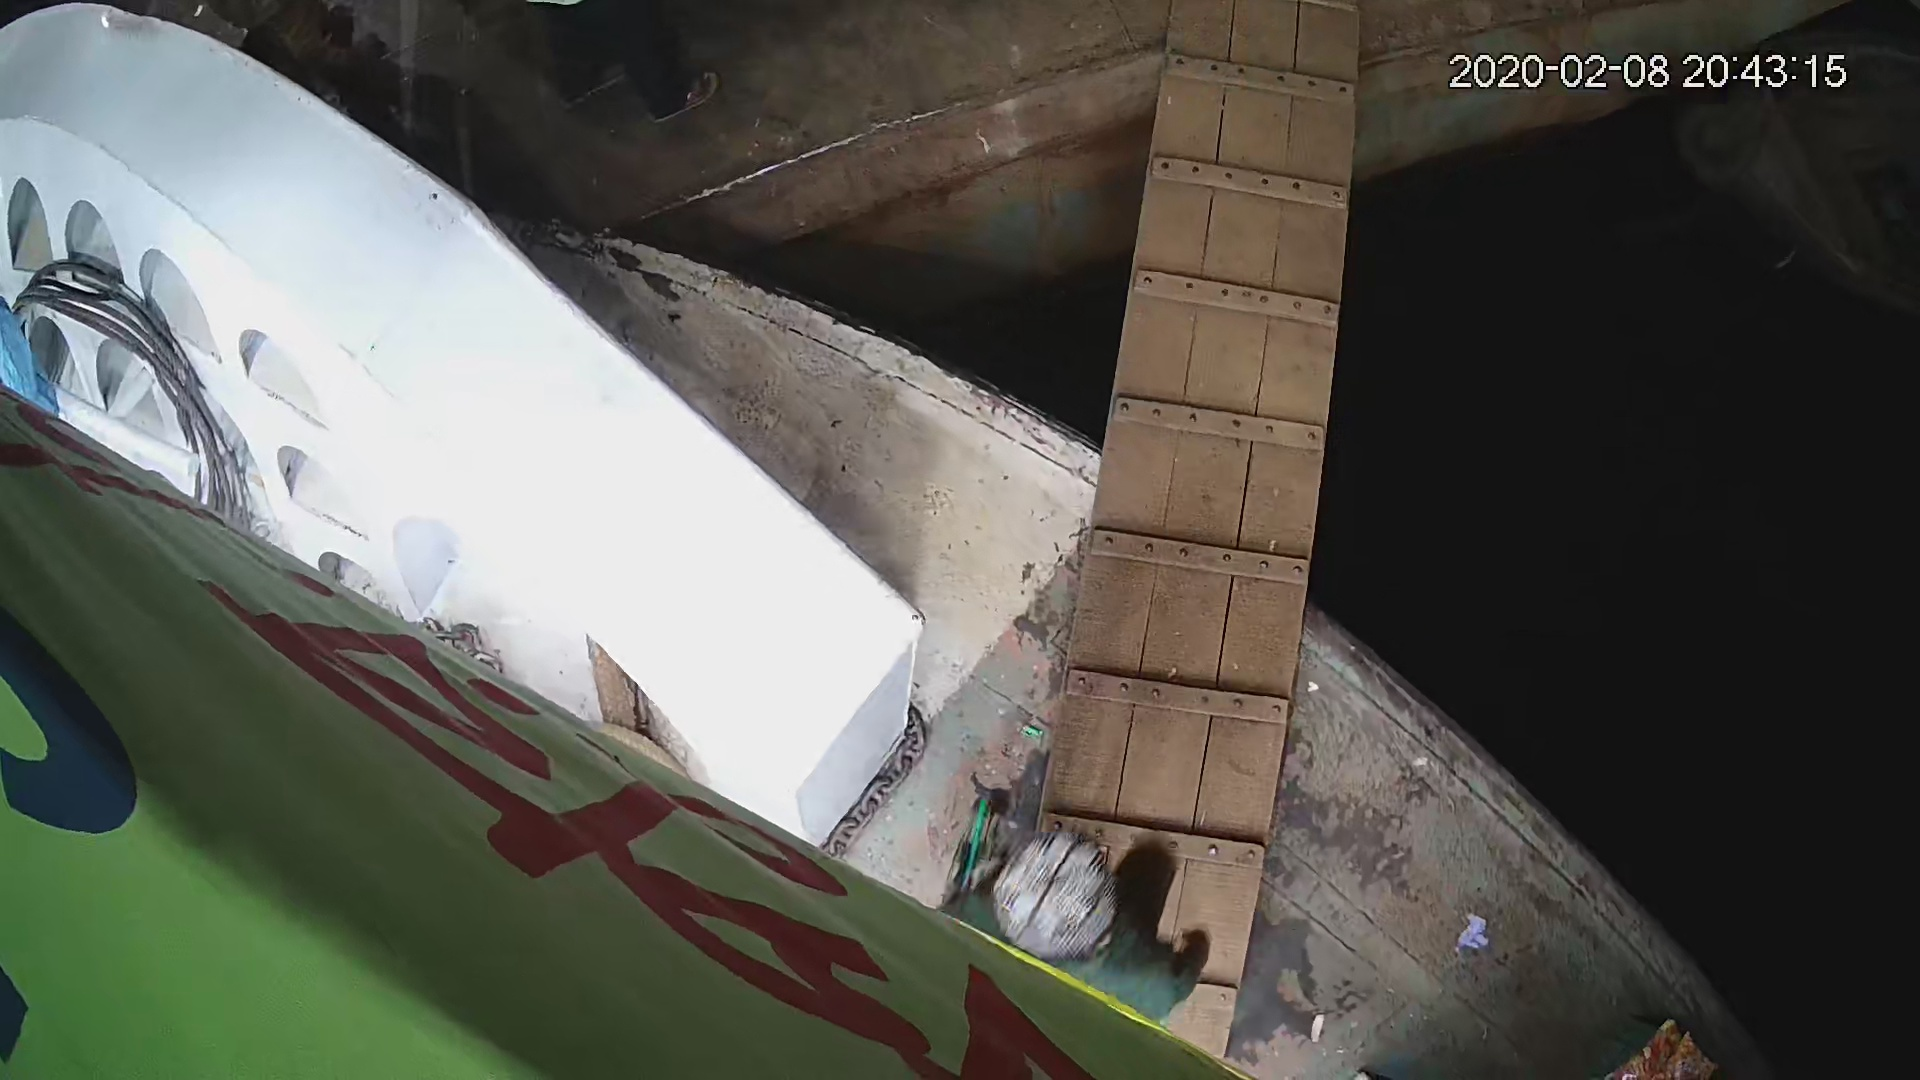person: (956, 791, 1215, 1026)
